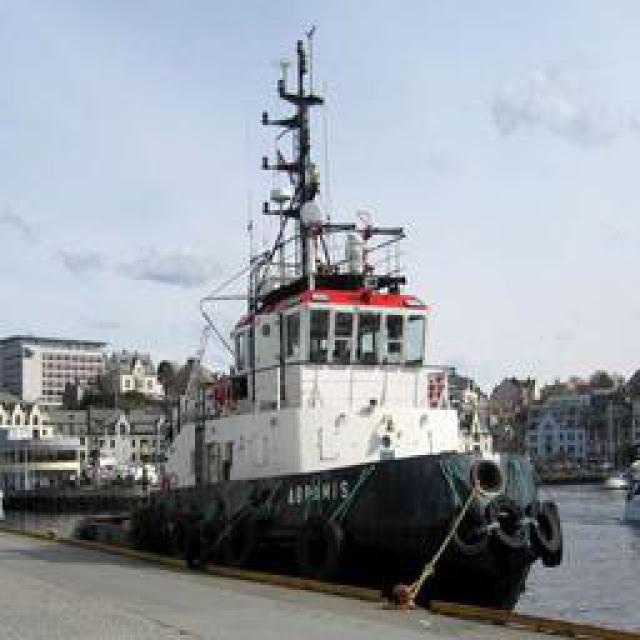Ship: (69, 16, 579, 594)
